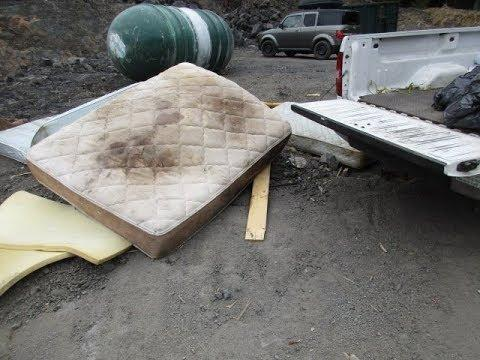Bed-Mattress: (20, 56, 296, 265)
